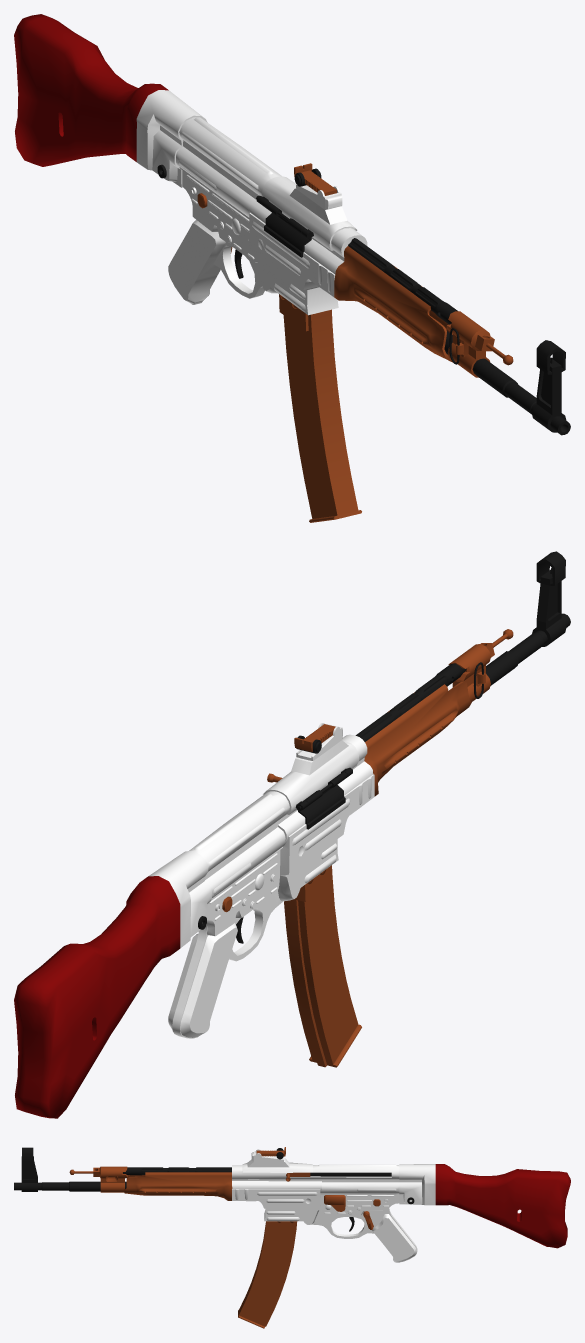
The picture shows the model from 3 angles, top to bottom: view 1: azimuth 30°, elevation 25°; view 2: azimuth 150°, elevation 25°; view 3: azimuth 270°, elevation 25°; orthographic projection. The views are drawn at different scales.
Parts seen in each view (by area): view 1: Low_STG, Low_Priklad, Low_Magazin, Low_Ceve, Low_Stvolniy_Pricel, Low_Nachalo_Gazovogo_Porshnya, Low_Stvol, Low_Gazoviu_Porshen, Low_Krishka; view 2: Low_STG, Low_Priklad, Low_Magazin, Low_Ceve, Low_Stvolniy_Pricel, Low_Gazoviu_Porshen, Low_Nachalo_Gazovogo_Porshnya, Low_Stvol, Low_Krishka; view 3: Low_STG, Low_Priklad, Low_Magazin, Low_Ceve, Low_Nachalo_Gazovogo_Porshnya, Low_Stvol, Low_Gazoviu_Porshen, Low_Stvolniy_Pricel, Low_Pruzina_Osnovnaya, Low_Krishka_Osnovnaya.
Part boxes in pixels (x1,y1,x2,y2): Low_STG: (136, 90, 367, 315); Low_Priklad: (14, 14, 168, 166); Low_Magazin: (279, 294, 361, 522); Low_Ceve: (334, 246, 452, 362); Low_Stvolniy_Pricel: (532, 340, 566, 432); Low_Nachalo_Gazovogo_Porshnya: (446, 311, 513, 377); Low_Stvol: (444, 331, 570, 435); Low_Gazoviu_Porshen: (348, 238, 457, 324); Low_Krishka: (262, 199, 311, 257); Low_STG: (148, 723, 374, 1038); Low_Priklad: (14, 876, 180, 1118); Low_Magazin: (284, 865, 361, 1067); Low_Ceve: (364, 681, 471, 796); Low_Stvolniy_Pricel: (532, 551, 566, 646); Low_Gazoviu_Porshen: (355, 663, 466, 741); Low_Nachalo_Gazovogo_Porshnya: (448, 629, 513, 701); Low_Stvol: (486, 613, 570, 685); Low_Krishka: (298, 771, 347, 829); Low_STG: (232, 1149, 435, 1262); Low_Priklad: (435, 1164, 570, 1248); Low_Magazin: (238, 1221, 297, 1328); Low_Ceve: (124, 1172, 232, 1200); Low_Nachalo_Gazovogo_Porshnya: (69, 1166, 127, 1192); Low_Stvol: (14, 1181, 126, 1191); Low_Gazoviu_Porshen: (123, 1167, 231, 1175); Low_Stvolniy_Pricel: (21, 1147, 37, 1191); Low_Pruzina_Osnovnaya: (310, 1172, 391, 1176); Low_Krishka_Osnovnaya: (324, 1195, 345, 1211).
Size of the model in its own units: 0.1164 by 0.7063 by 2.
